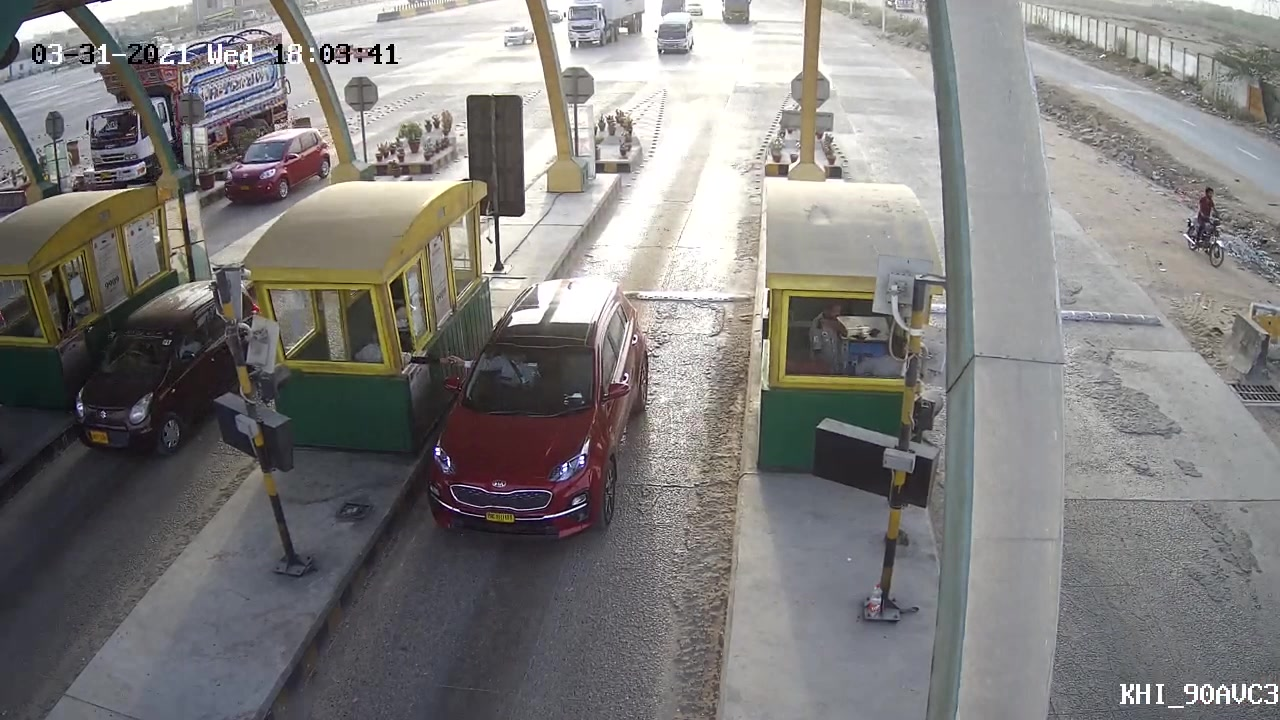F1: (412, 266, 656, 544)
